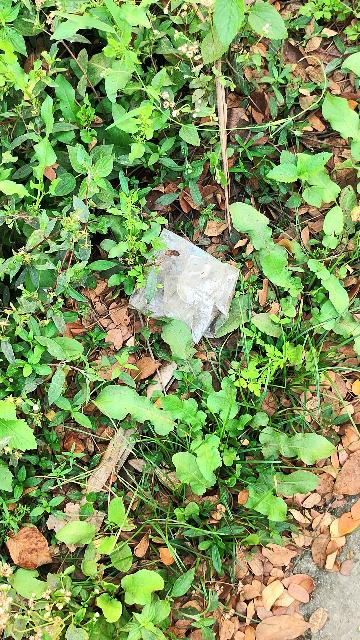polythene: (129, 227, 241, 339)
